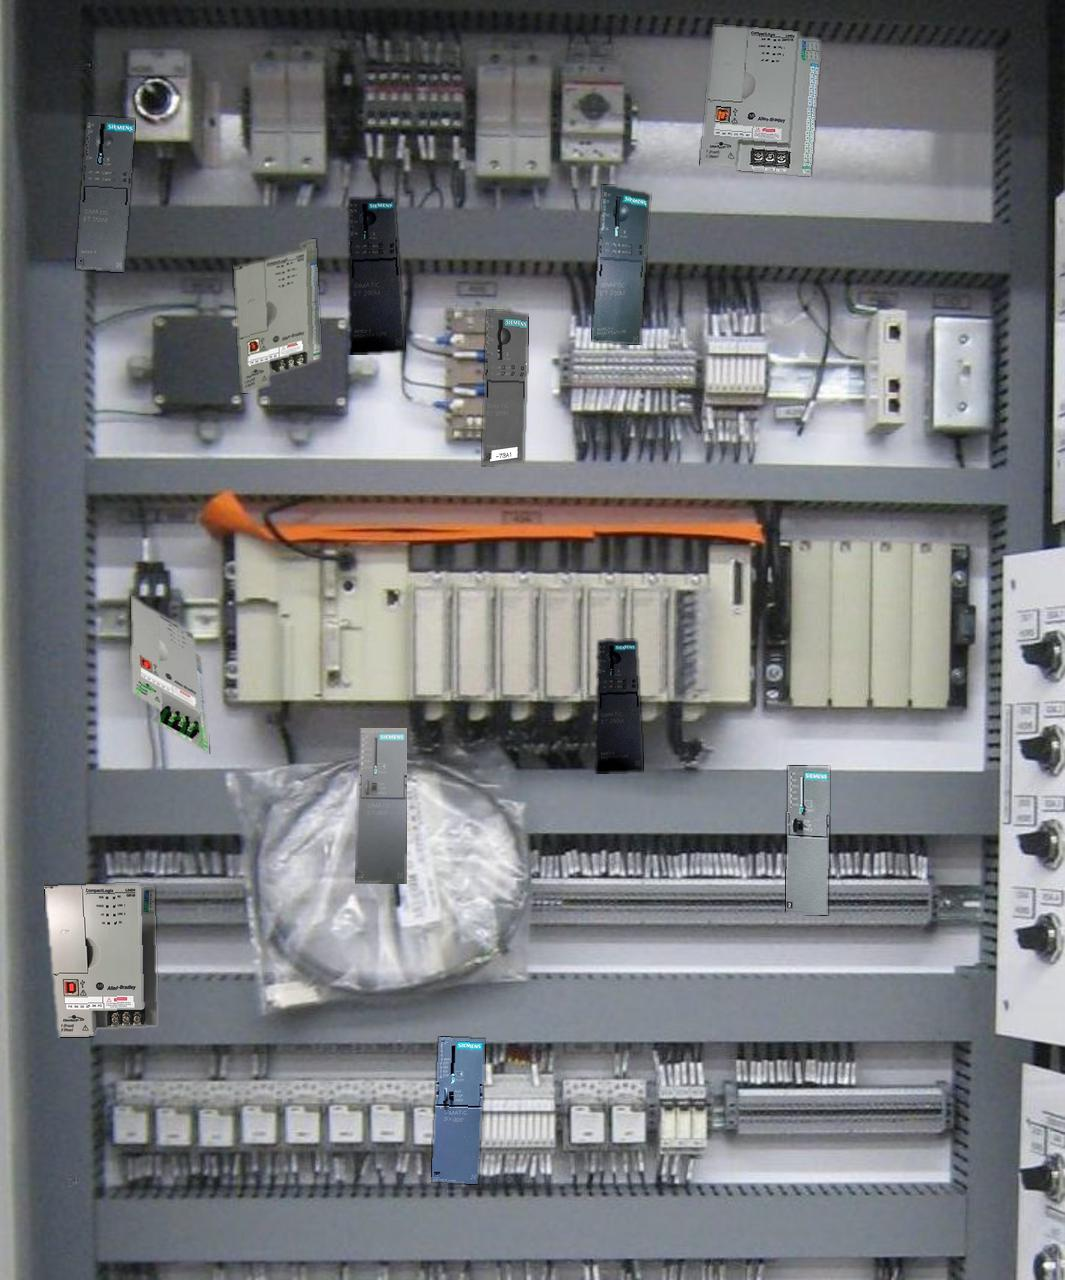AllenBradley: (700, 26, 819, 175), (44, 885, 156, 1037), (233, 239, 320, 392), (131, 596, 208, 753)
Siemens: (355, 728, 406, 883), (432, 1037, 485, 1183), (787, 767, 828, 914)
